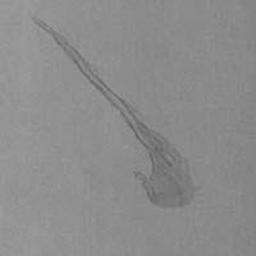Water spot: (31, 15, 202, 210)
